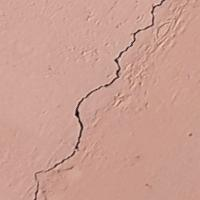crack: (25, 0, 172, 199)
